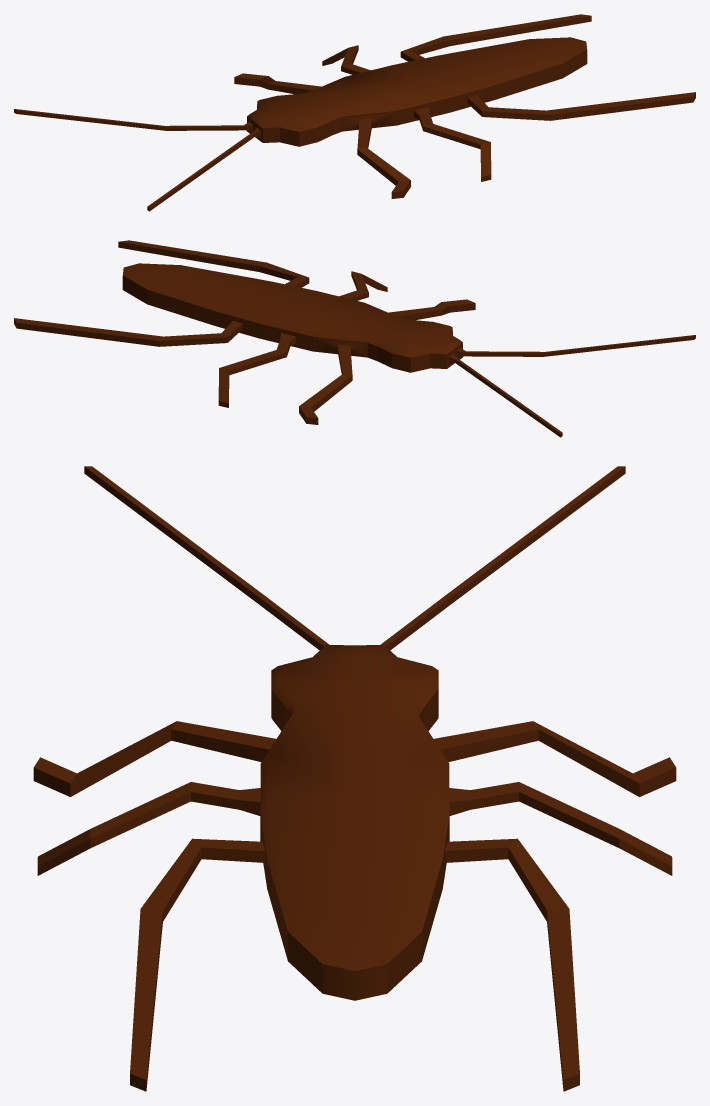
Rendered from RoughCockroach.fbx.
3 views of the same model, one above another, from view 1: azimuth 30°, elevation 25°; view 2: azimuth 150°, elevation 25°; view 3: azimuth 270°, elevation 25° (orthographic). The views are drawn at different scales.
Parts seen in each view (by area): view 1: Box001; view 2: Box001; view 3: Box001.
Boxes of the visible parts, x1,y1,x2,y2 form: Box001: [14, 14, 695, 211]; Box001: [14, 240, 695, 437]; Box001: [33, 466, 676, 1091].
Size of the model in its own units: 215 by 15.99 by 106.
